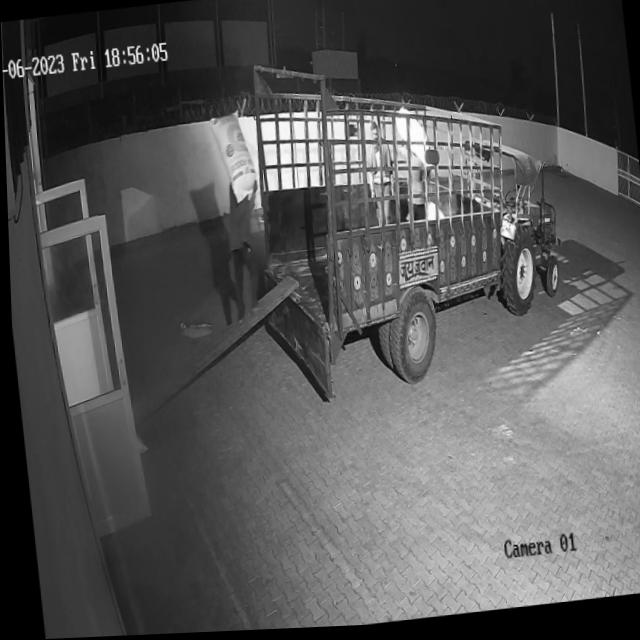sack: (206, 110, 255, 207)
